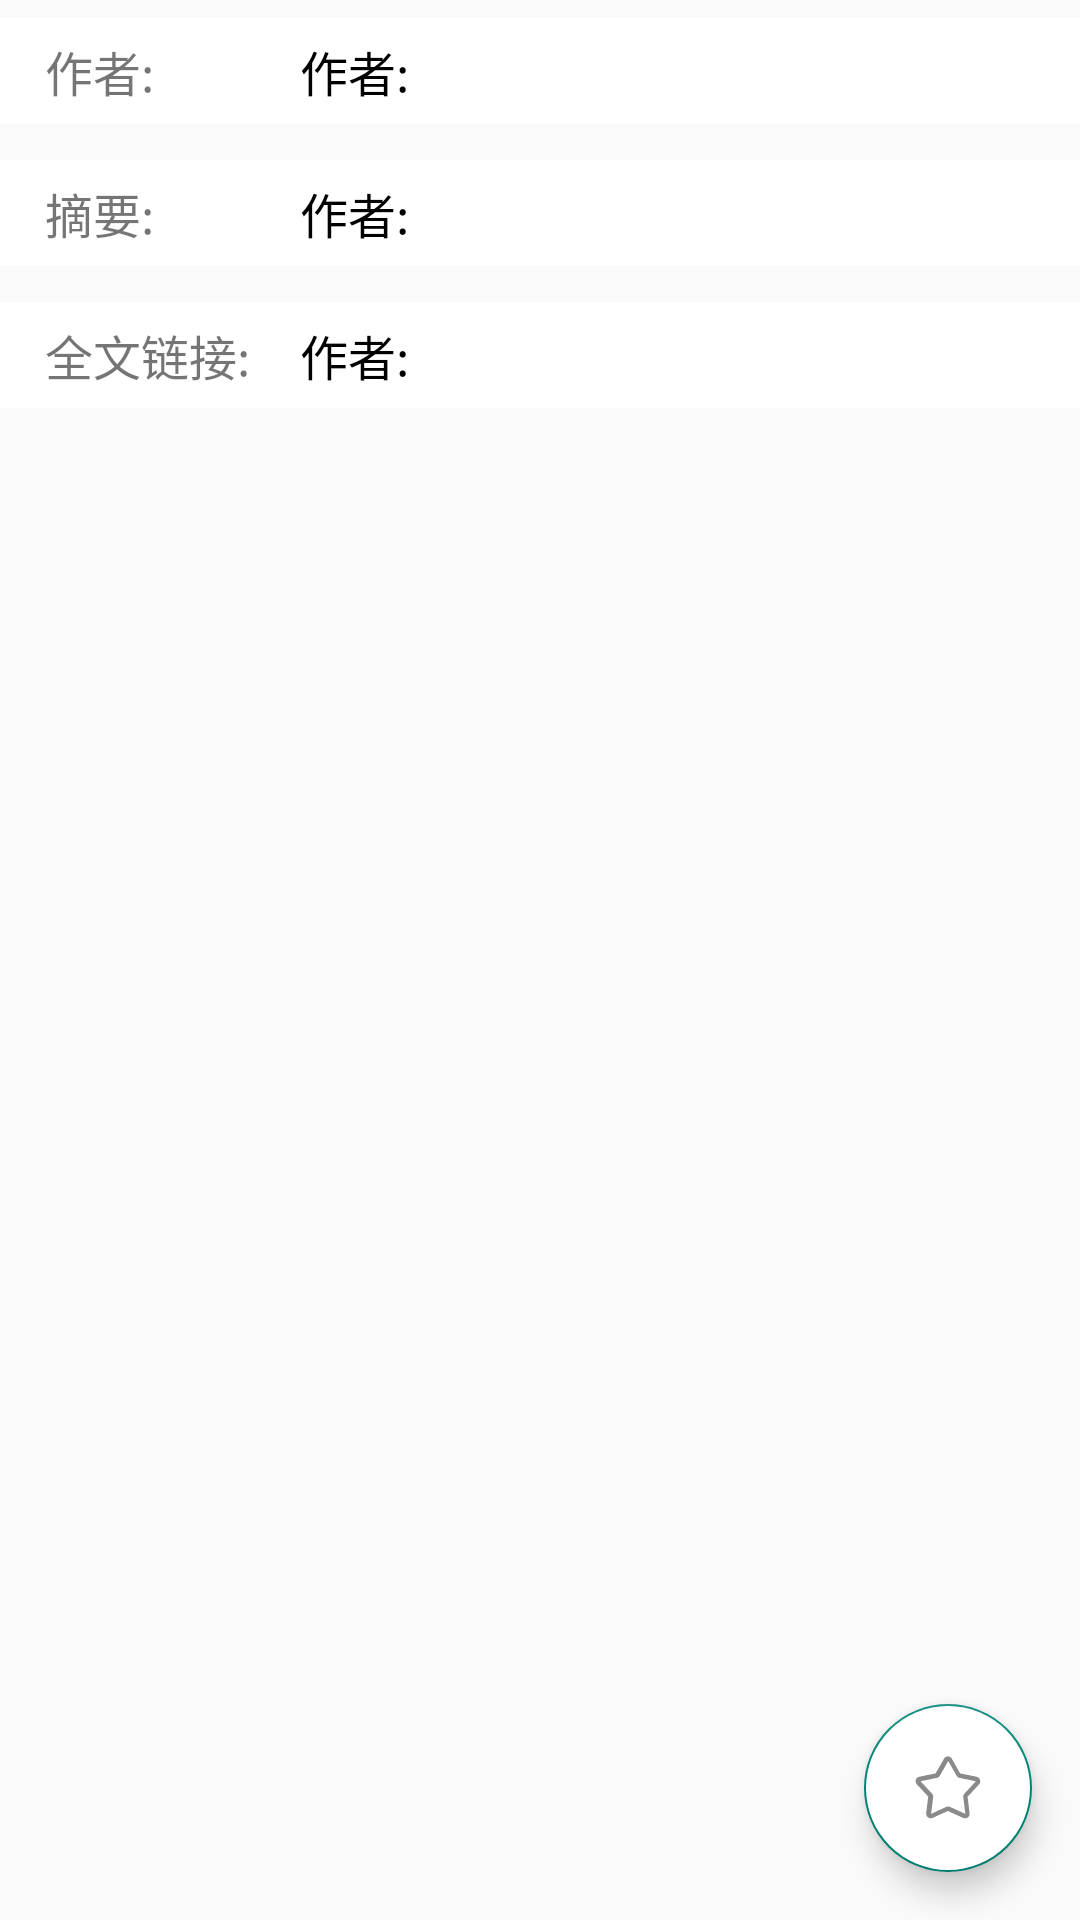

Icon bounding boxes for this 1080x1920 phone screenshot, format (x1=x1, y1=y1, x2=x2, y2=y2):
collect: (x1=864, y1=1704, x2=1032, y2=1872)
